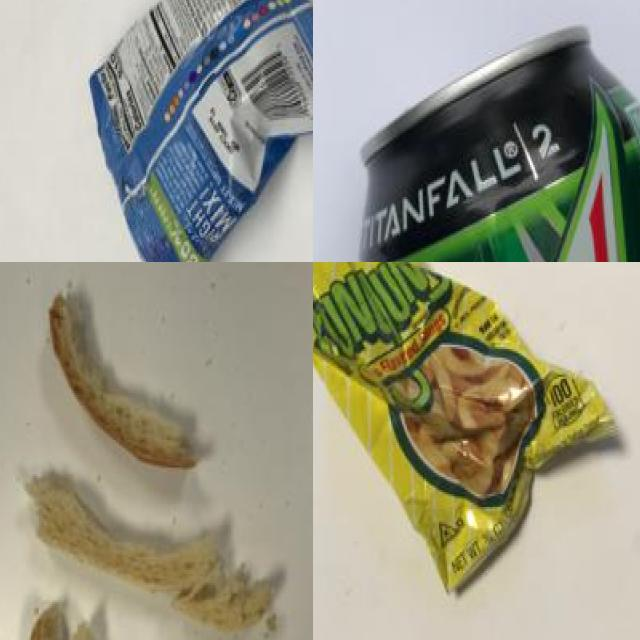compost: (0, 267, 296, 640)
plastic: (343, 10, 640, 262)
trash: (313, 262, 635, 596), (77, 0, 313, 262)
